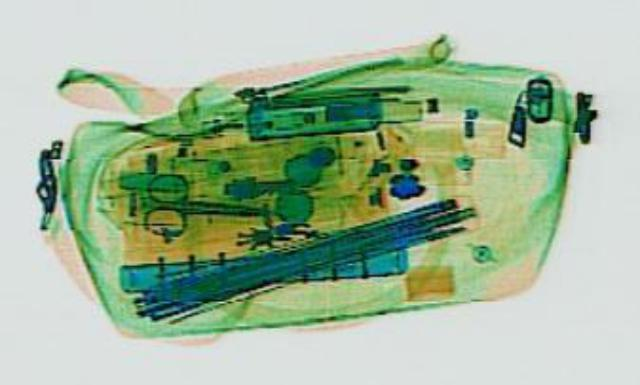Scissors: (132, 167, 276, 242)
